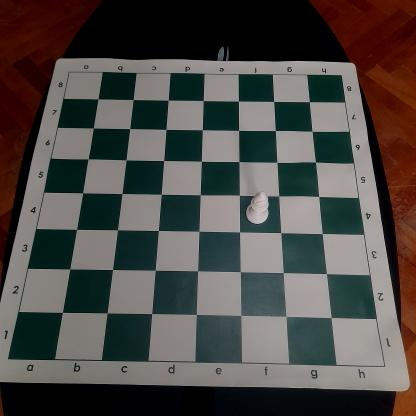white-bishop: (244, 190, 271, 226)
